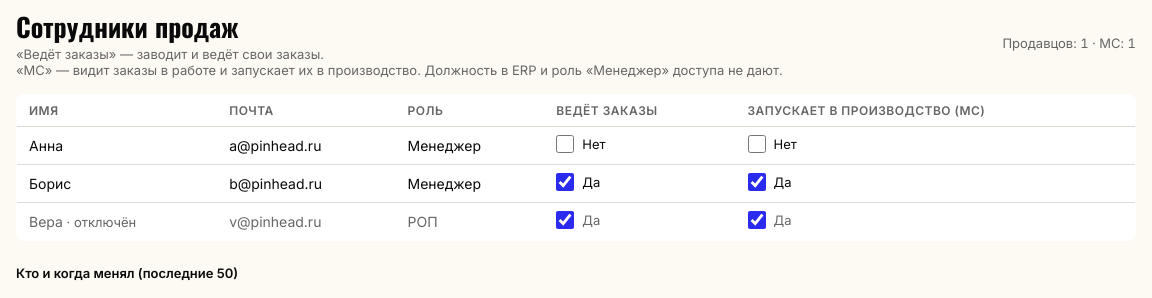
SalesStaff › «МС» сохраняется через RPC с видом ms
expect the text "Анна" is shown: met, box [16,126,217,164]
Click the 2nd checkbox labelled "Нет" at (756, 144), box [748,135,766,153]
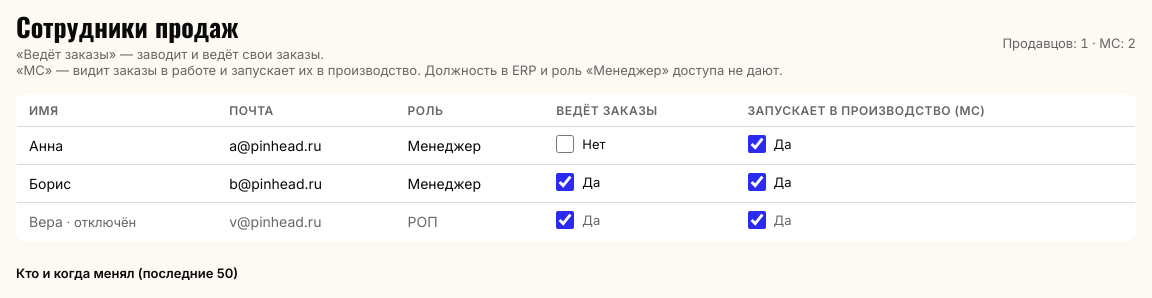
expect the text "Продавцов: 1 · МС: 2" is shown: met, box [1002,34,1136,50]
